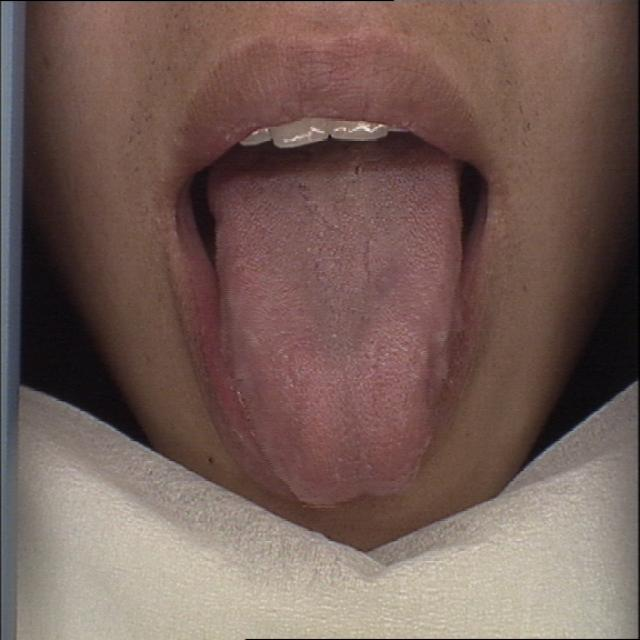tongue: (203, 156, 483, 513)
